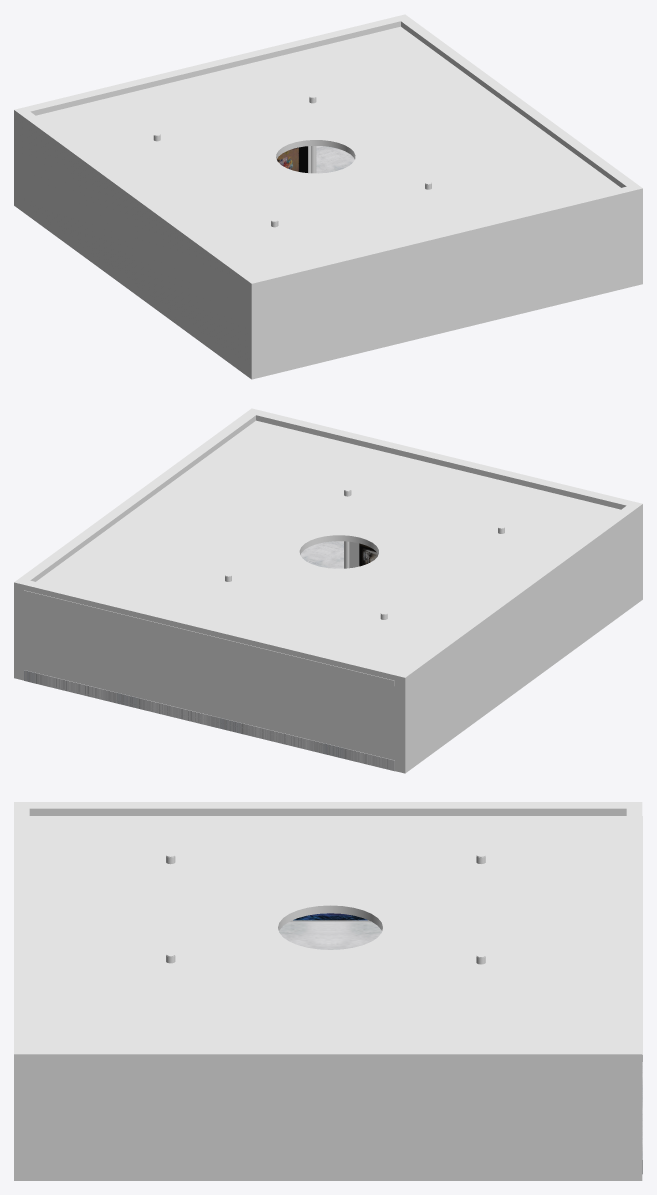
Rendered from 211202_export_metaspace.gltf.
The picture shows the model from 3 angles, top to bottom: view 1: azimuth 30°, elevation 25°; view 2: azimuth 150°, elevation 25°; view 3: azimuth 270°, elevation 25°; orthographic projection. The views are drawn at different scales.
Visible parts, largest first — view 1: Rectangle001, Rectangle003, Rectangle006, Box001, Plane046; view 2: Rectangle001, Rectangle003, Box001, Rectangle006; view 3: Rectangle001, Rectangle003, Rectangle006, Box001.
Boxes of the visible parts, x1,y1,x2,y2 form: Rectangle001: (36, 26, 620, 276); Rectangle003: (14, 14, 642, 367); Rectangle006: (14, 194, 642, 379); Box001: (316, 146, 354, 173); Plane046: (277, 146, 307, 172); Rectangle001: (24, 420, 620, 686); Rectangle003: (14, 408, 642, 761); Box001: (24, 541, 394, 771); Rectangle006: (14, 588, 642, 773); Rectangle001: (29, 816, 642, 1061); Rectangle003: (14, 802, 642, 1165); Rectangle006: (14, 920, 642, 1180); Box001: (279, 921, 642, 1174).
Size of the model in its own units: 38 by 8.89 by 40.04.
